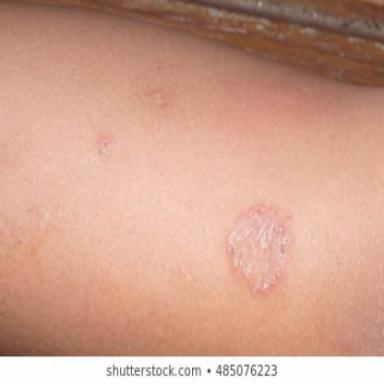Tinea-Corporis: (225, 204, 294, 295)
